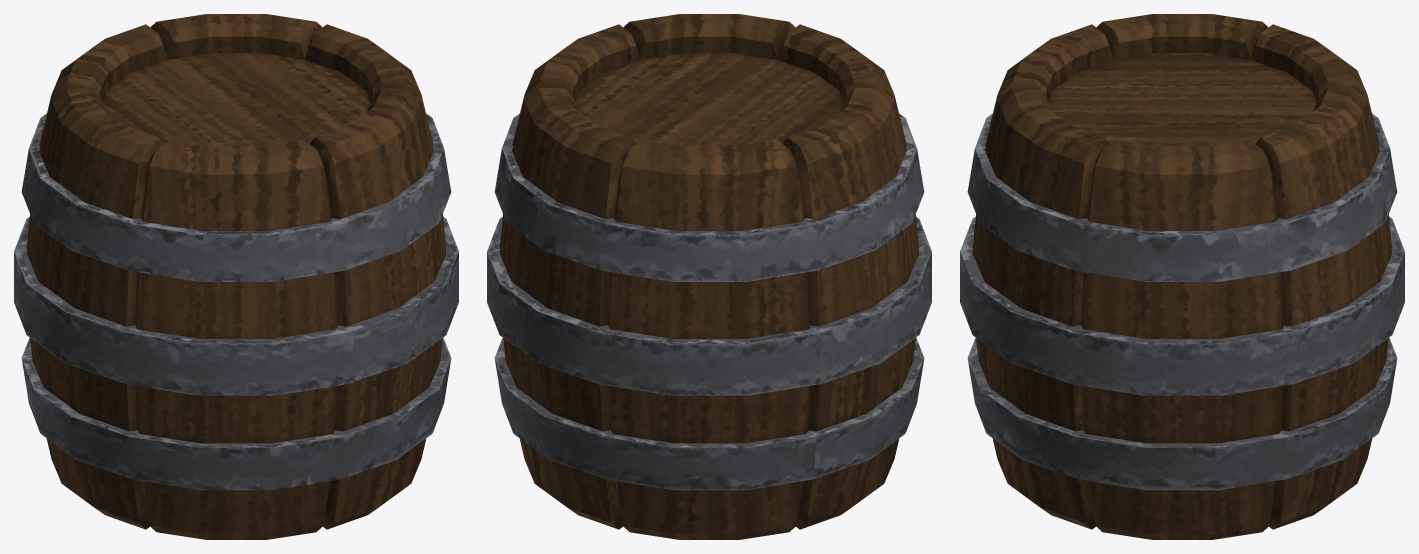
File: stylized_wooden_barrel.glb
The picture shows the model from 3 angles, left to right: view 1: azimuth 30°, elevation 25°; view 2: azimuth 150°, elevation 25°; view 3: azimuth 270°, elevation 25°; orthographic projection.
Visible parts, largest first — view 1: BarrilDestruible; view 2: BarrilDestruible; view 3: BarrilDestruible.
Part boxes in pixels (<box>): BarrilDestruible: <box>14,14,458,539</box>; BarrilDestruible: <box>487,14,931,539</box>; BarrilDestruible: <box>960,14,1404,539</box>.
Bounding box in the file's own units: 2.08 × 2 × 2.1.
Materials: 1 (1 with a texture image).
